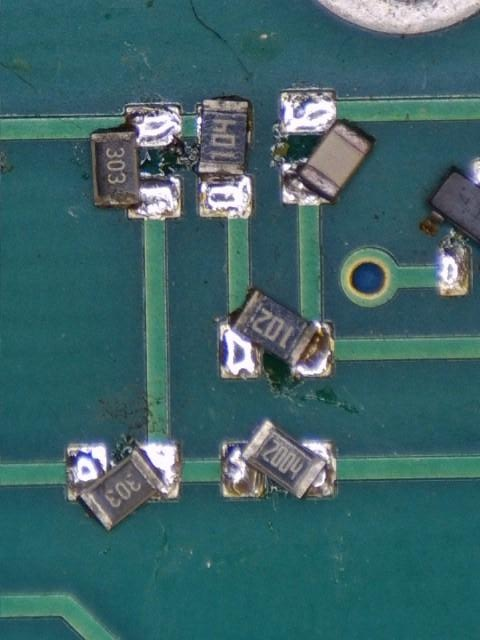pcb_defect: (279, 91, 376, 205), (90, 104, 184, 220), (219, 287, 334, 380), (66, 441, 181, 532), (221, 417, 336, 501), (421, 159, 480, 297), (196, 98, 253, 218)
